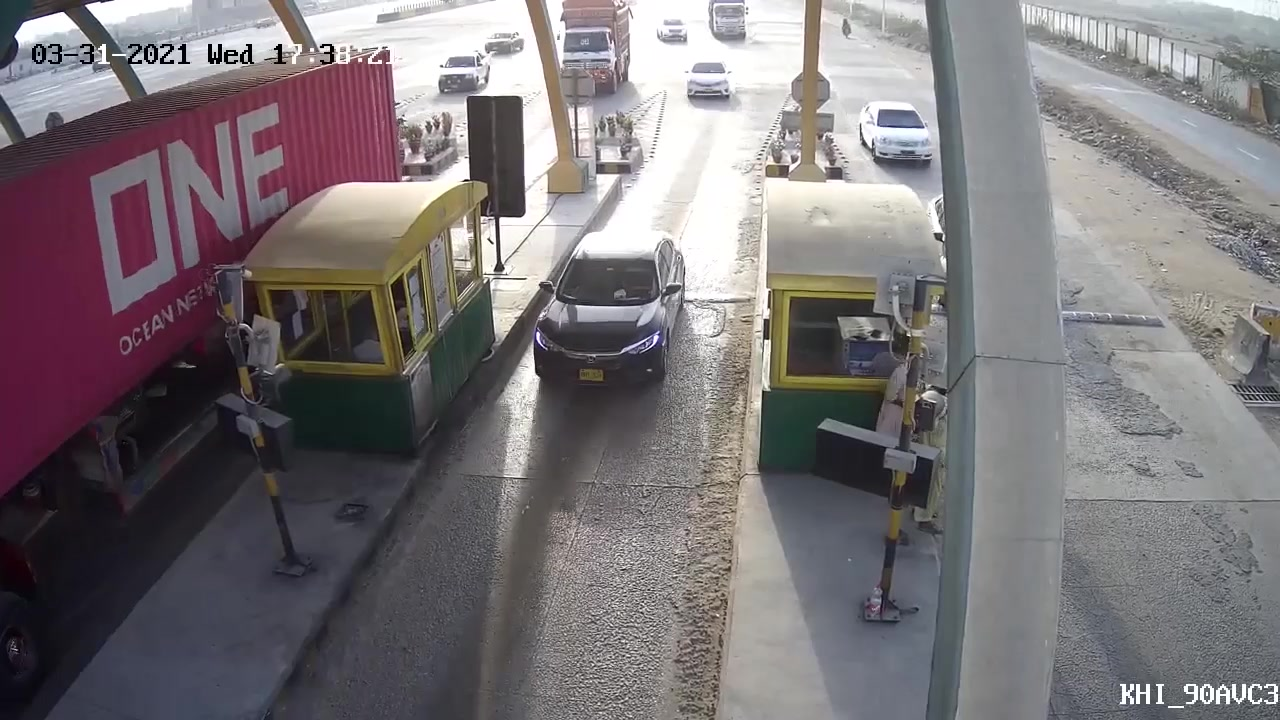F1: (525, 225, 695, 387)
